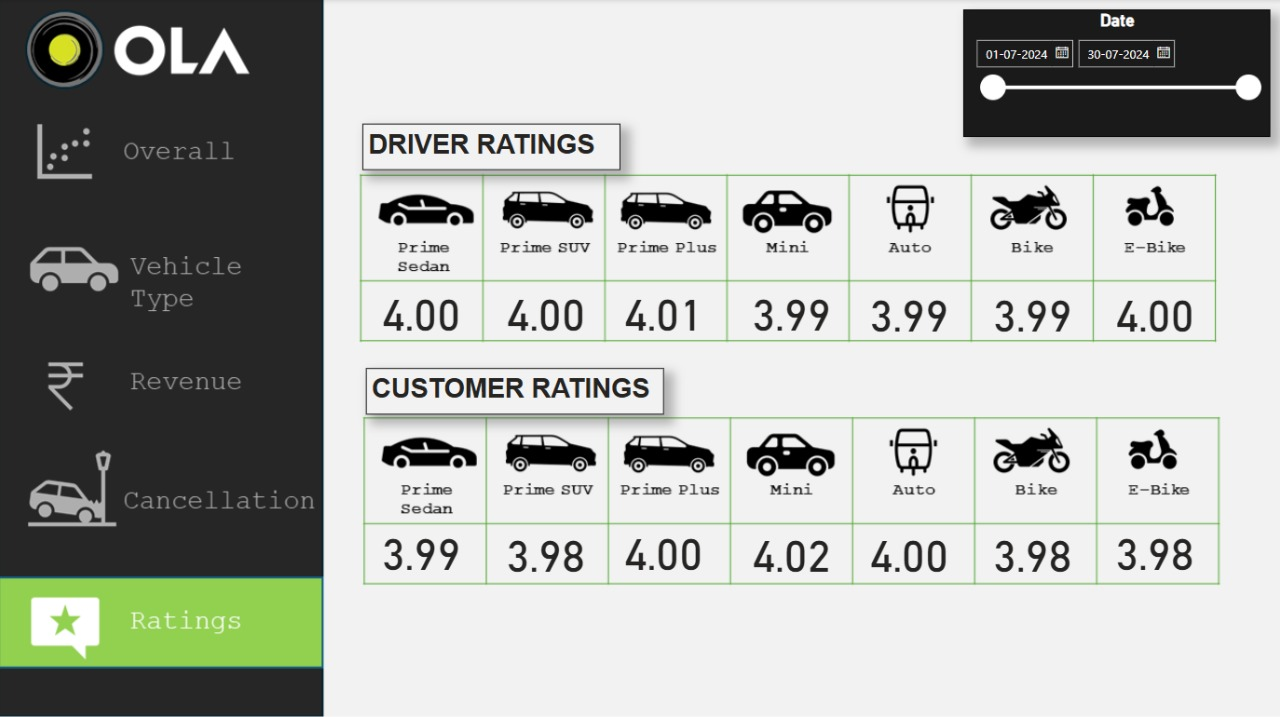

This screenshot's page, from the dashboard's own definition file:
{"tool":"powerbi","page":{"name":"Rating","canvas":[1280,720],"ordinal":4},"visuals":[{"type":"actionButton","box":[0,228,324.5,90.5],"z":0},{"type":"actionButton","box":[0,340.2,324.5,88.1],"z":1000},{"type":"actionButton","box":[1.2,446.4,324.5,90.5],"z":2000},{"type":"actionButton","box":[0,580.3,324.5,94.1],"z":3000},{"type":"actionButton","box":[0,111,324.5,90.5],"z":4000},{"type":"card","fields":{"Values":["Avg(July.Driver_Ratings)"]},"box":[362.5,282.5,117.5,57.5],"z":5000},{"type":"card","fields":{"Values":["Avg(July.Driver_Ratings)"]},"box":[487.5,282.5,117.5,57.5],"z":6000},{"type":"card","fields":{"Values":["Avg(July.Driver_Ratings)"]},"box":[605,282.5,117.5,57.5],"z":7000},{"type":"card","fields":{"Values":["Avg(July.Driver_Ratings)"]},"box":[732.5,282.5,117.5,57.5],"z":8000},{"type":"card","fields":{"Values":["Avg(July.Driver_Ratings)"]},"box":[850,283.8,117.5,57.5],"z":9000},{"type":"card","fields":{"Values":["Avg(July.Driver_Ratings)"]},"box":[973.8,283.8,117.5,57.5],"z":10000},{"type":"card","fields":{"Values":["Avg(July.Driver_Ratings)"]},"box":[1095,283.8,117.5,57.5],"z":11000},{"type":"card","fields":{"Values":["Avg(July.Customer_Rating)"]},"box":[362.5,522.5,117.5,57.5],"z":12000},{"type":"card","fields":{"Values":["Avg(July.Customer_Rating)"]},"box":[487.5,523.8,117.5,57.5],"z":13000},{"type":"card","fields":{"Values":["Avg(July.Customer_Rating)"]},"box":[605,522.5,117.5,57.5],"z":14000},{"type":"card","fields":{"Values":["Avg(July.Customer_Rating)"]},"box":[732.5,523.8,117.5,57.5],"z":15000},{"type":"card","fields":{"Values":["Avg(July.Customer_Rating)"]},"box":[850,523.8,117.5,57.5],"z":16000},{"type":"card","fields":{"Values":["Avg(July.Customer_Rating)"]},"box":[973.8,523.8,117.5,57.5],"z":17000},{"type":"card","fields":{"Values":["Avg(July.Customer_Rating)"]},"box":[1095,522.5,117.5,57.5],"z":18000},{"type":"textbox","box":[362.5,125,257.5,46.2],"z":19000},{"type":"textbox","box":[366.2,368.8,297.5,46.2],"z":19001},{"type":"slicer","title":"Date","fields":{"Values":["July.Date"]},"box":[962.5,10,306.2,127.5],"z":19002}]}

Visuals, with their boxes in screenshot pixels (x1, y1, x2, y2), scaled from the page's 1280x720 canvas onto the 1280x717 screenshot:
actionButton: box=[0, 227, 324, 317]
actionButton: box=[0, 339, 324, 427]
actionButton: box=[1, 445, 326, 535]
actionButton: box=[0, 578, 324, 672]
actionButton: box=[0, 111, 324, 201]
card - Avg(July.Driver_Ratings): box=[362, 281, 480, 339]
card - Avg(July.Driver_Ratings): box=[488, 281, 605, 339]
card - Avg(July.Driver_Ratings): box=[605, 281, 722, 339]
card - Avg(July.Driver_Ratings): box=[732, 281, 850, 339]
card - Avg(July.Driver_Ratings): box=[850, 283, 968, 340]
card - Avg(July.Driver_Ratings): box=[974, 283, 1091, 340]
card - Avg(July.Driver_Ratings): box=[1095, 283, 1212, 340]
card - Avg(July.Customer_Rating): box=[362, 520, 480, 578]
card - Avg(July.Customer_Rating): box=[488, 522, 605, 579]
card - Avg(July.Customer_Rating): box=[605, 520, 722, 578]
card - Avg(July.Customer_Rating): box=[732, 522, 850, 579]
card - Avg(July.Customer_Rating): box=[850, 522, 968, 579]
card - Avg(July.Customer_Rating): box=[974, 522, 1091, 579]
card - Avg(July.Customer_Rating): box=[1095, 520, 1212, 578]
textbox: box=[362, 124, 620, 170]
textbox: box=[366, 367, 664, 413]
"Date" slicer: box=[962, 10, 1269, 137]
